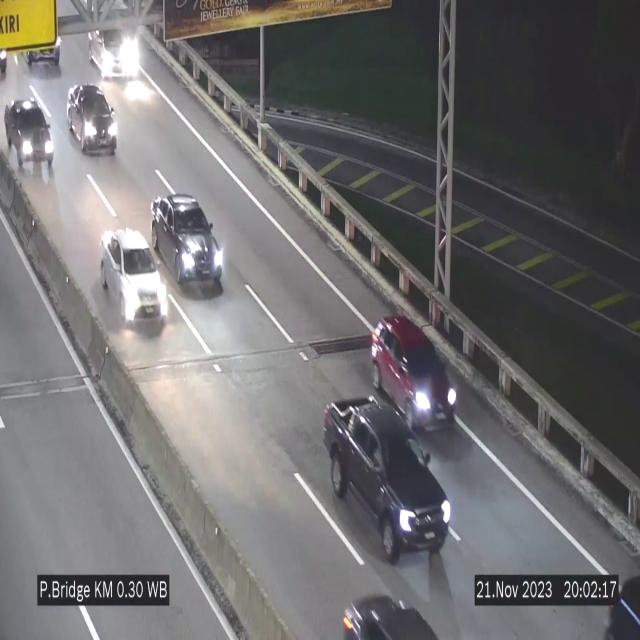Car: (320, 392, 448, 558), (366, 312, 455, 432), (151, 190, 221, 283), (100, 230, 168, 324), (65, 82, 119, 160), (3, 94, 57, 171), (85, 29, 139, 85)
